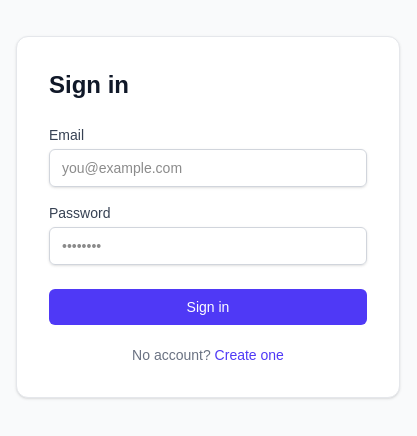
Test: LoginForm › shows validation error when submitting empty form
Click the button "Sign in" at (208, 307), box [49,289,367,325]
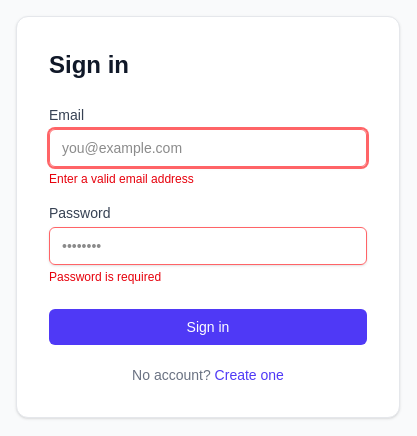
Check: the text "Enter a valid email address" is shown, box [49,172,194,186]
